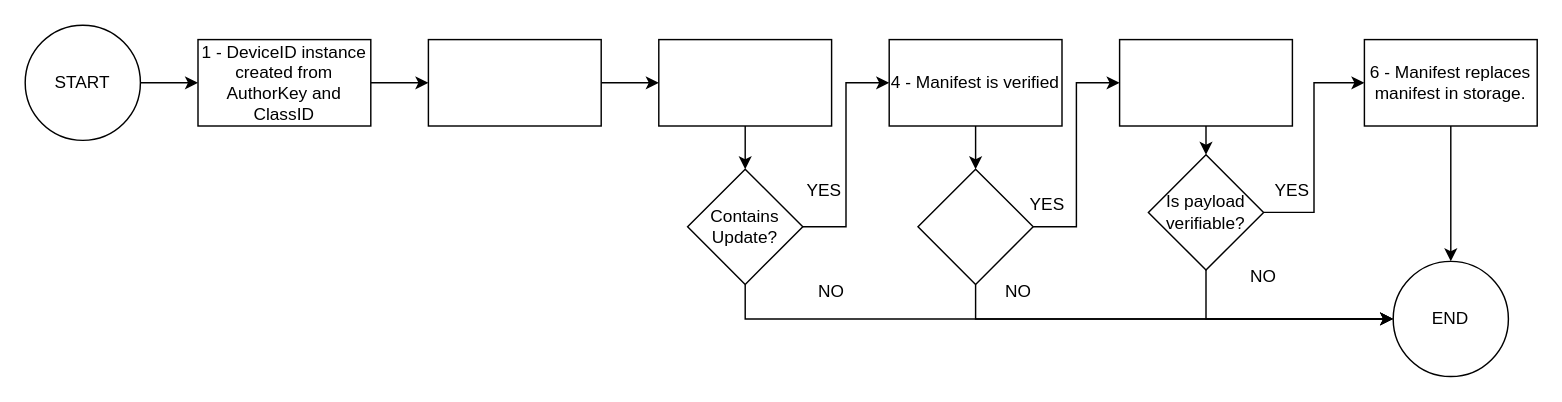
Image size: 1562x402. Some labels were removed from this diagram. The shapes that lost their labels are listed below. From the top down, each one's centre as x and y in pixels, then its label:
At pixel 514 82: "2 - Retrival agent is called. DeviceID is sent".
At pixel 744 82: "3 - Retieval agent sends response".
At pixel 1205 82: "5 - Payload is verified".
At pixel 975 226: "Is manifest verifiable?".
